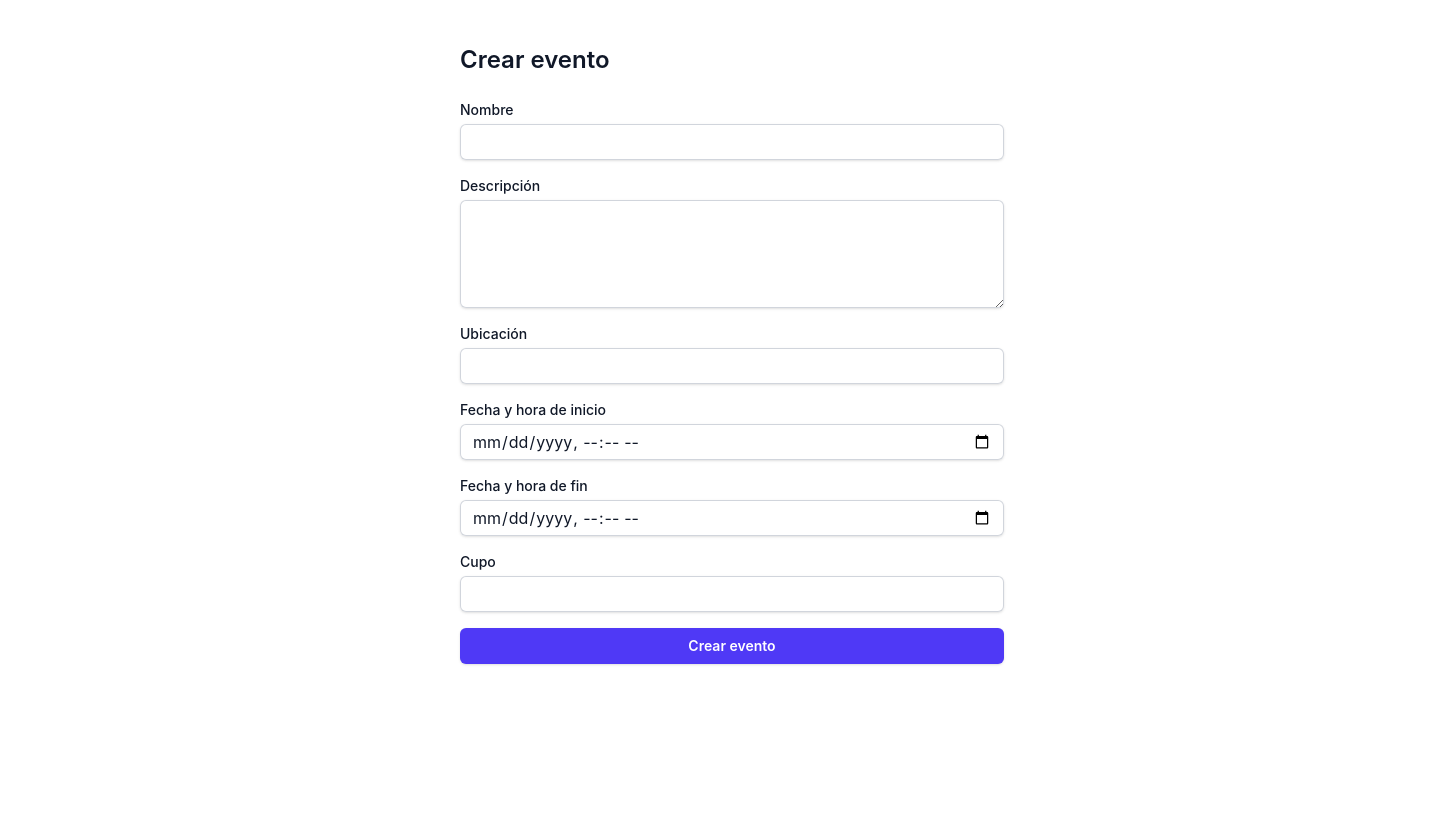
EventFormPage — modo crear › crea un evento feliz y redirige al detalle
Type "Evento nuevo" into the field labelled "Nombre" at (732, 142), box [460,124,1004,160]
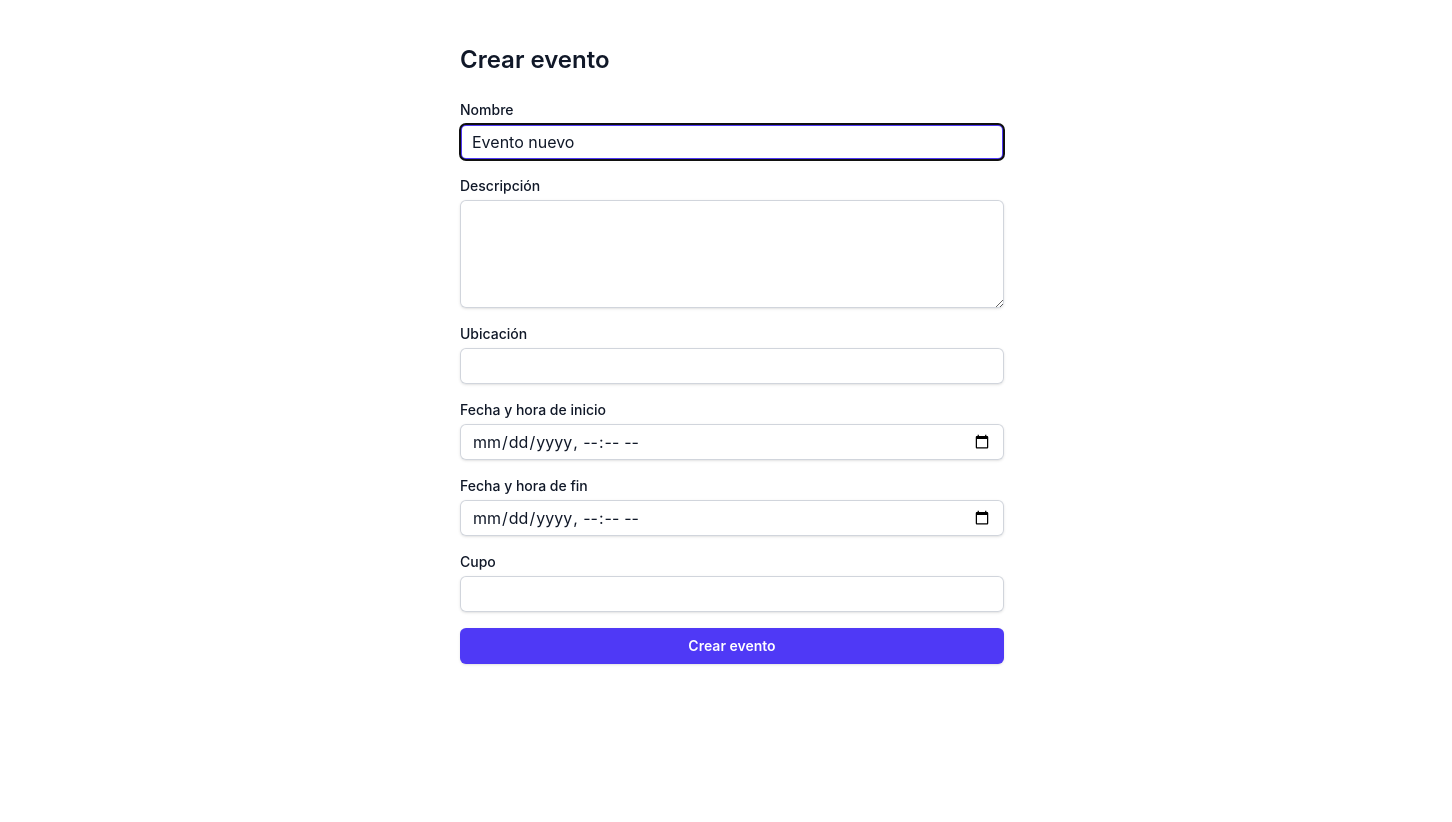
Type "Quito, Ecuador" into the field labelled "Ubicación" at (732, 366), box [460,348,1004,384]
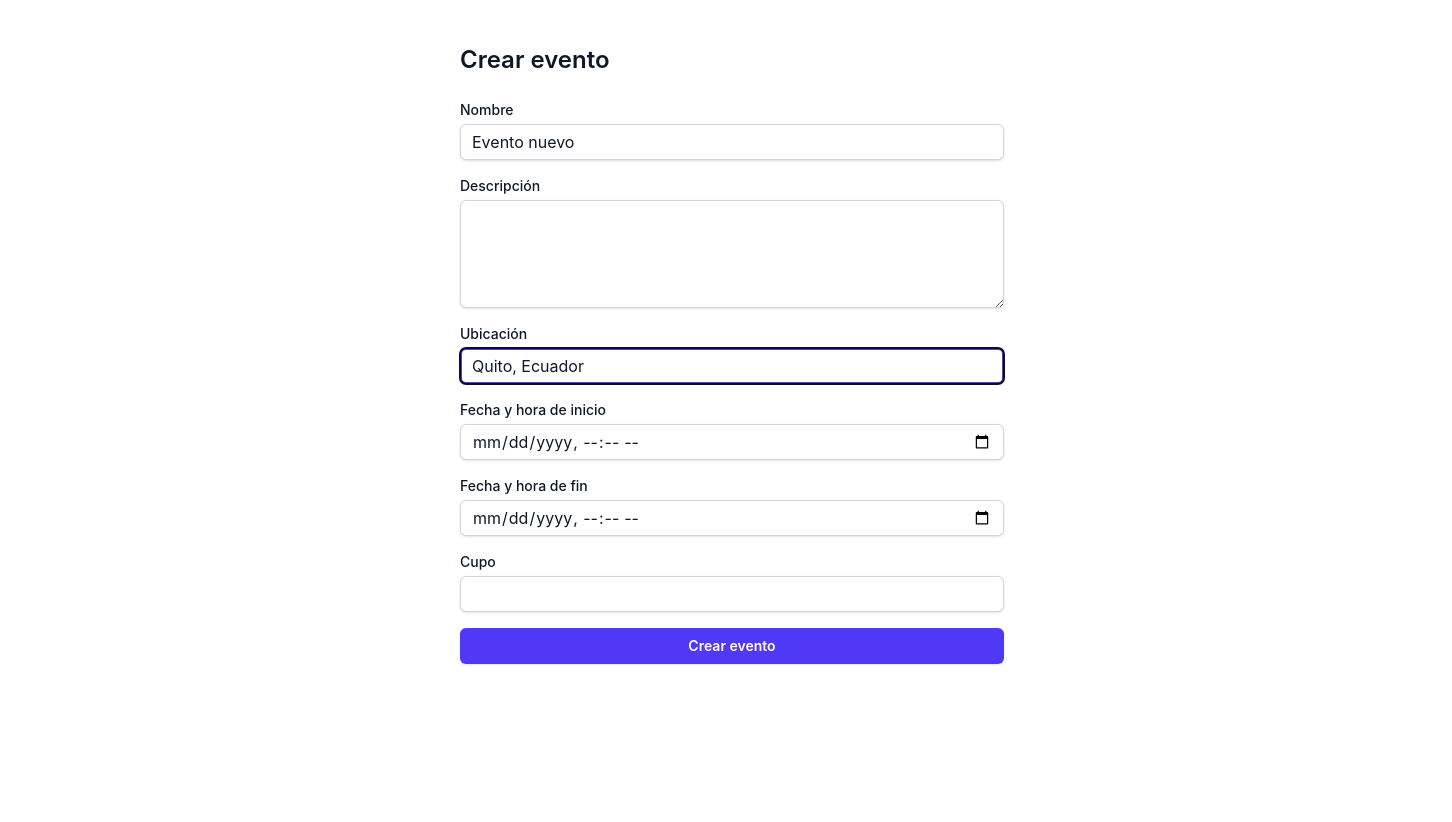
Type "2026-12-10T09:00" into the field labelled "Fecha y hora de inicio" at (732, 442), box [460,424,1004,460]
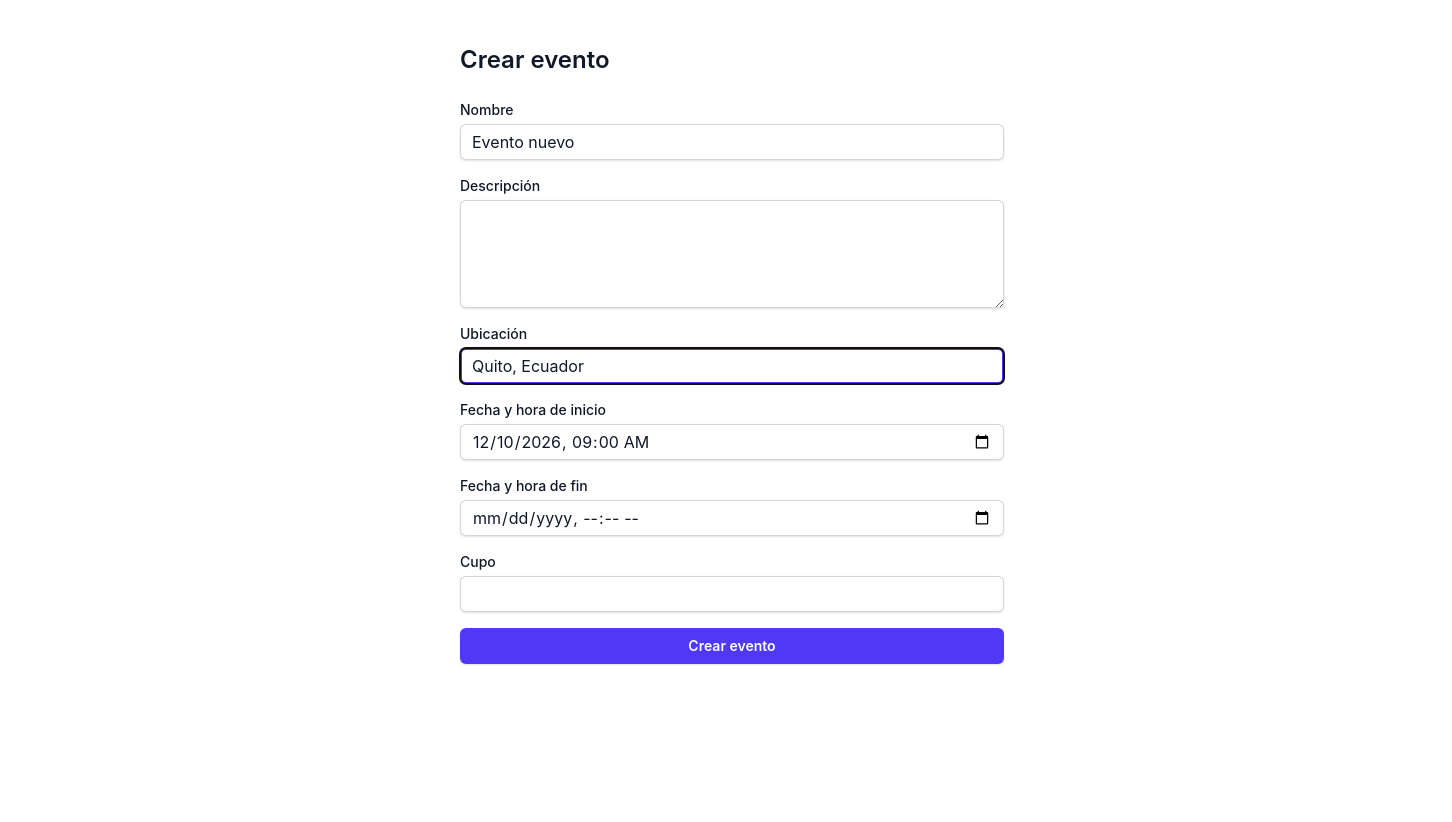
Type "2026-12-10T12:00" into the field labelled "Fecha y hora de fin" at (732, 518), box [460,500,1004,536]
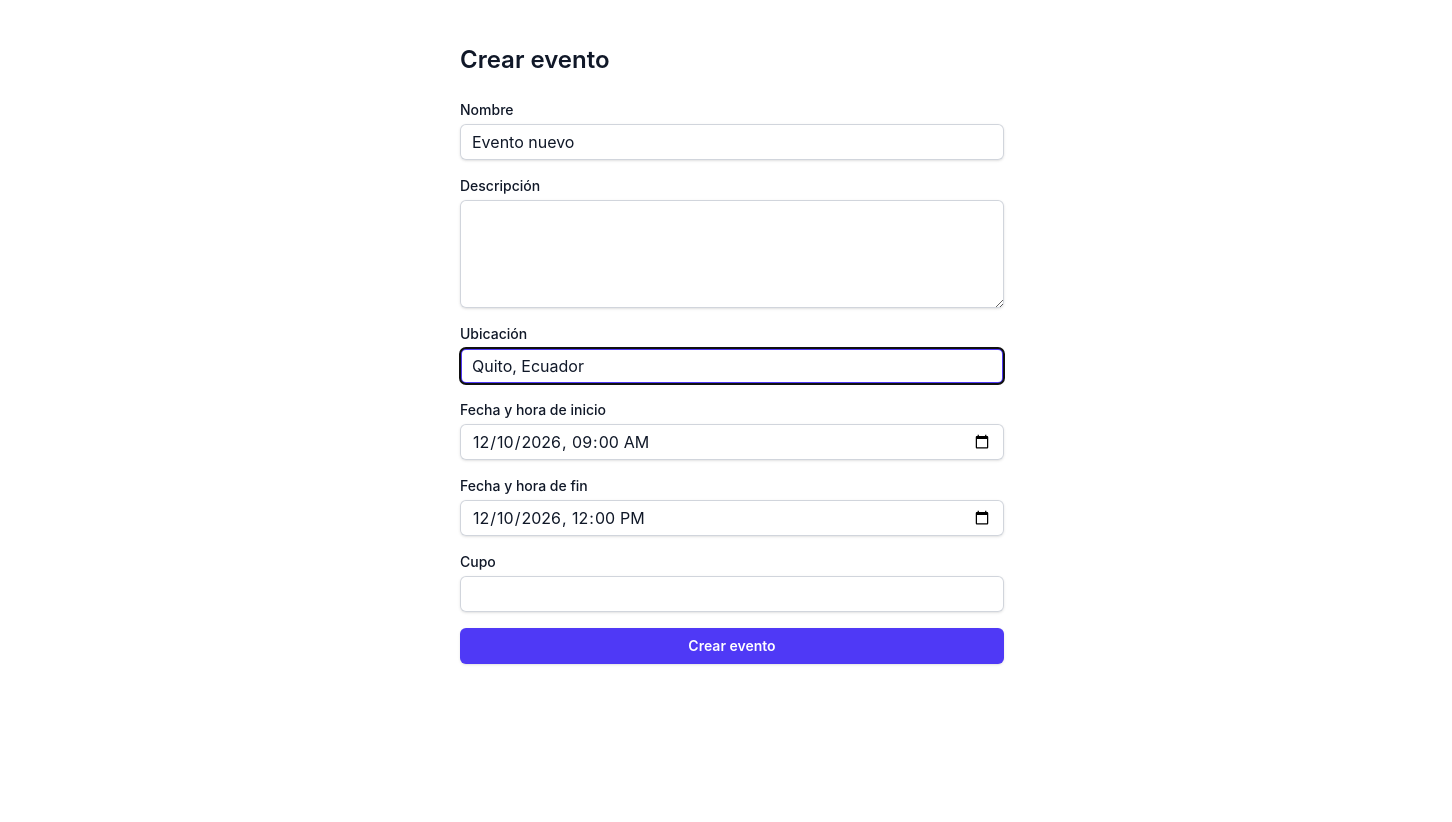
Type "10" into the number field labelled "Cupo" at (732, 594), box [460,576,1004,612]
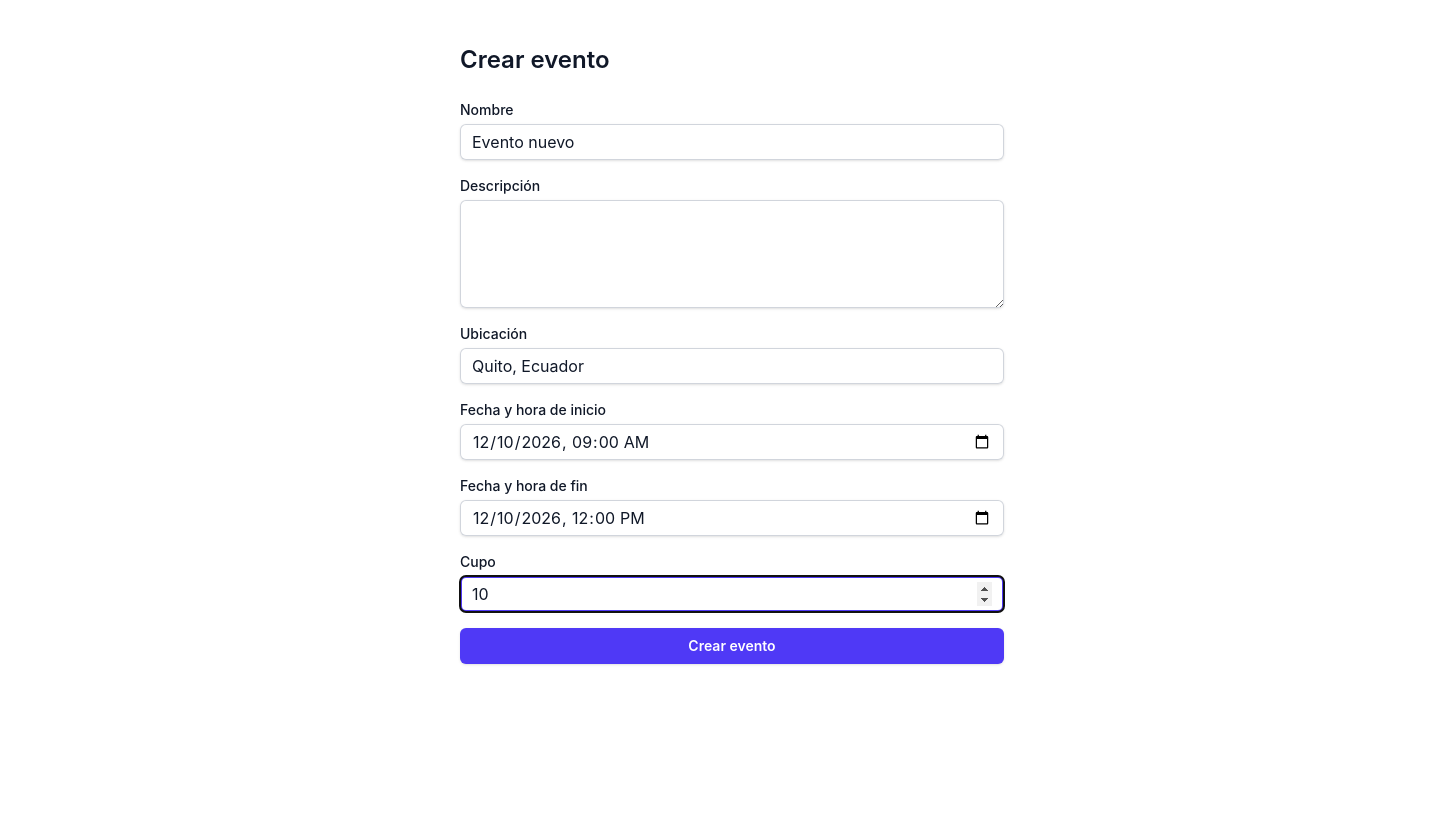
Click the button "Crear evento" at (732, 646), box [460,628,1004,664]
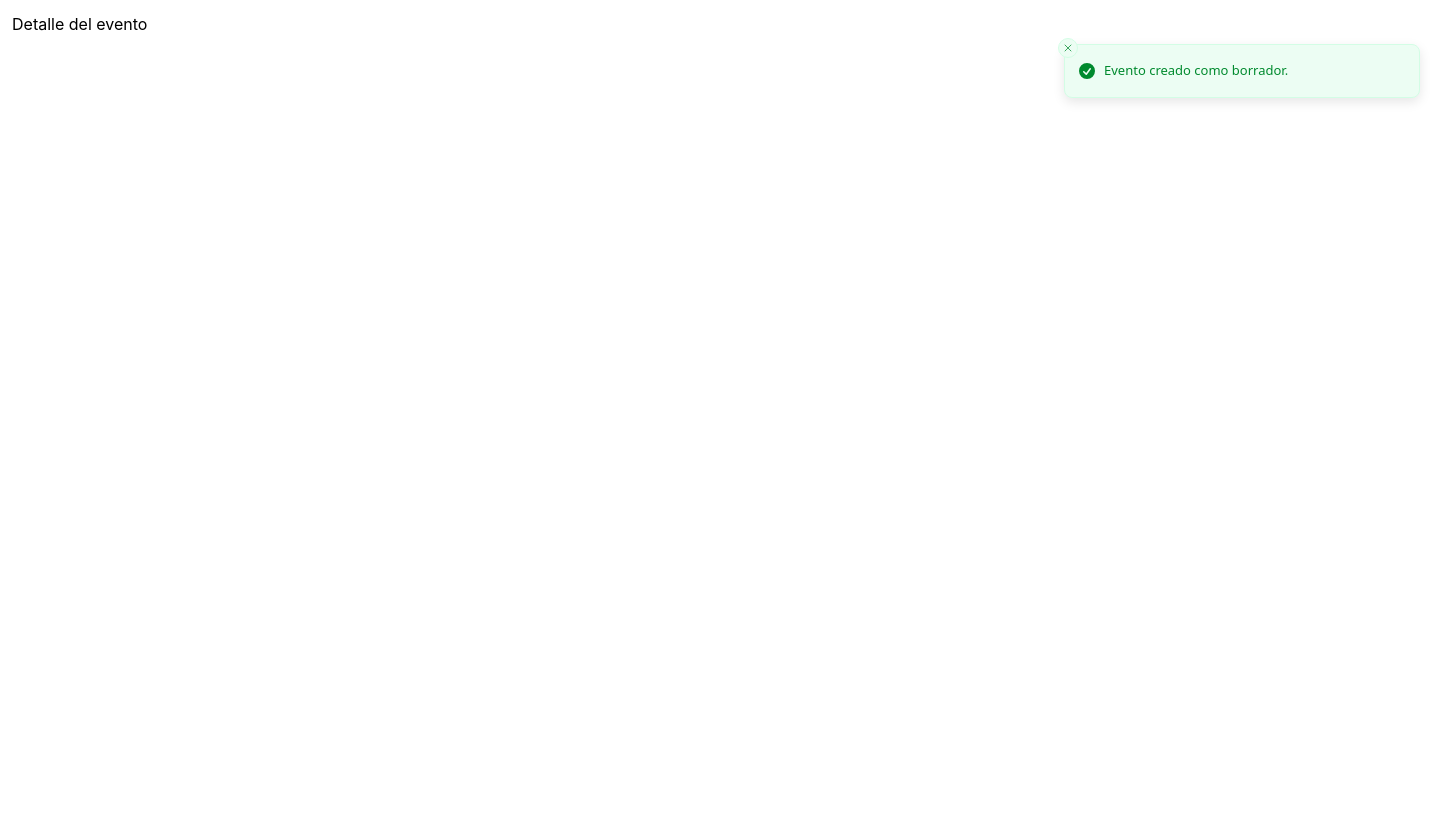
expect the text "Detalle del evento" is shown: met, box [12,14,147,34]
